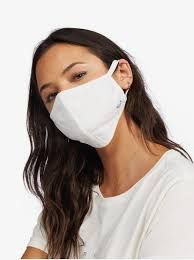with-mask: (29, 36, 143, 153)
